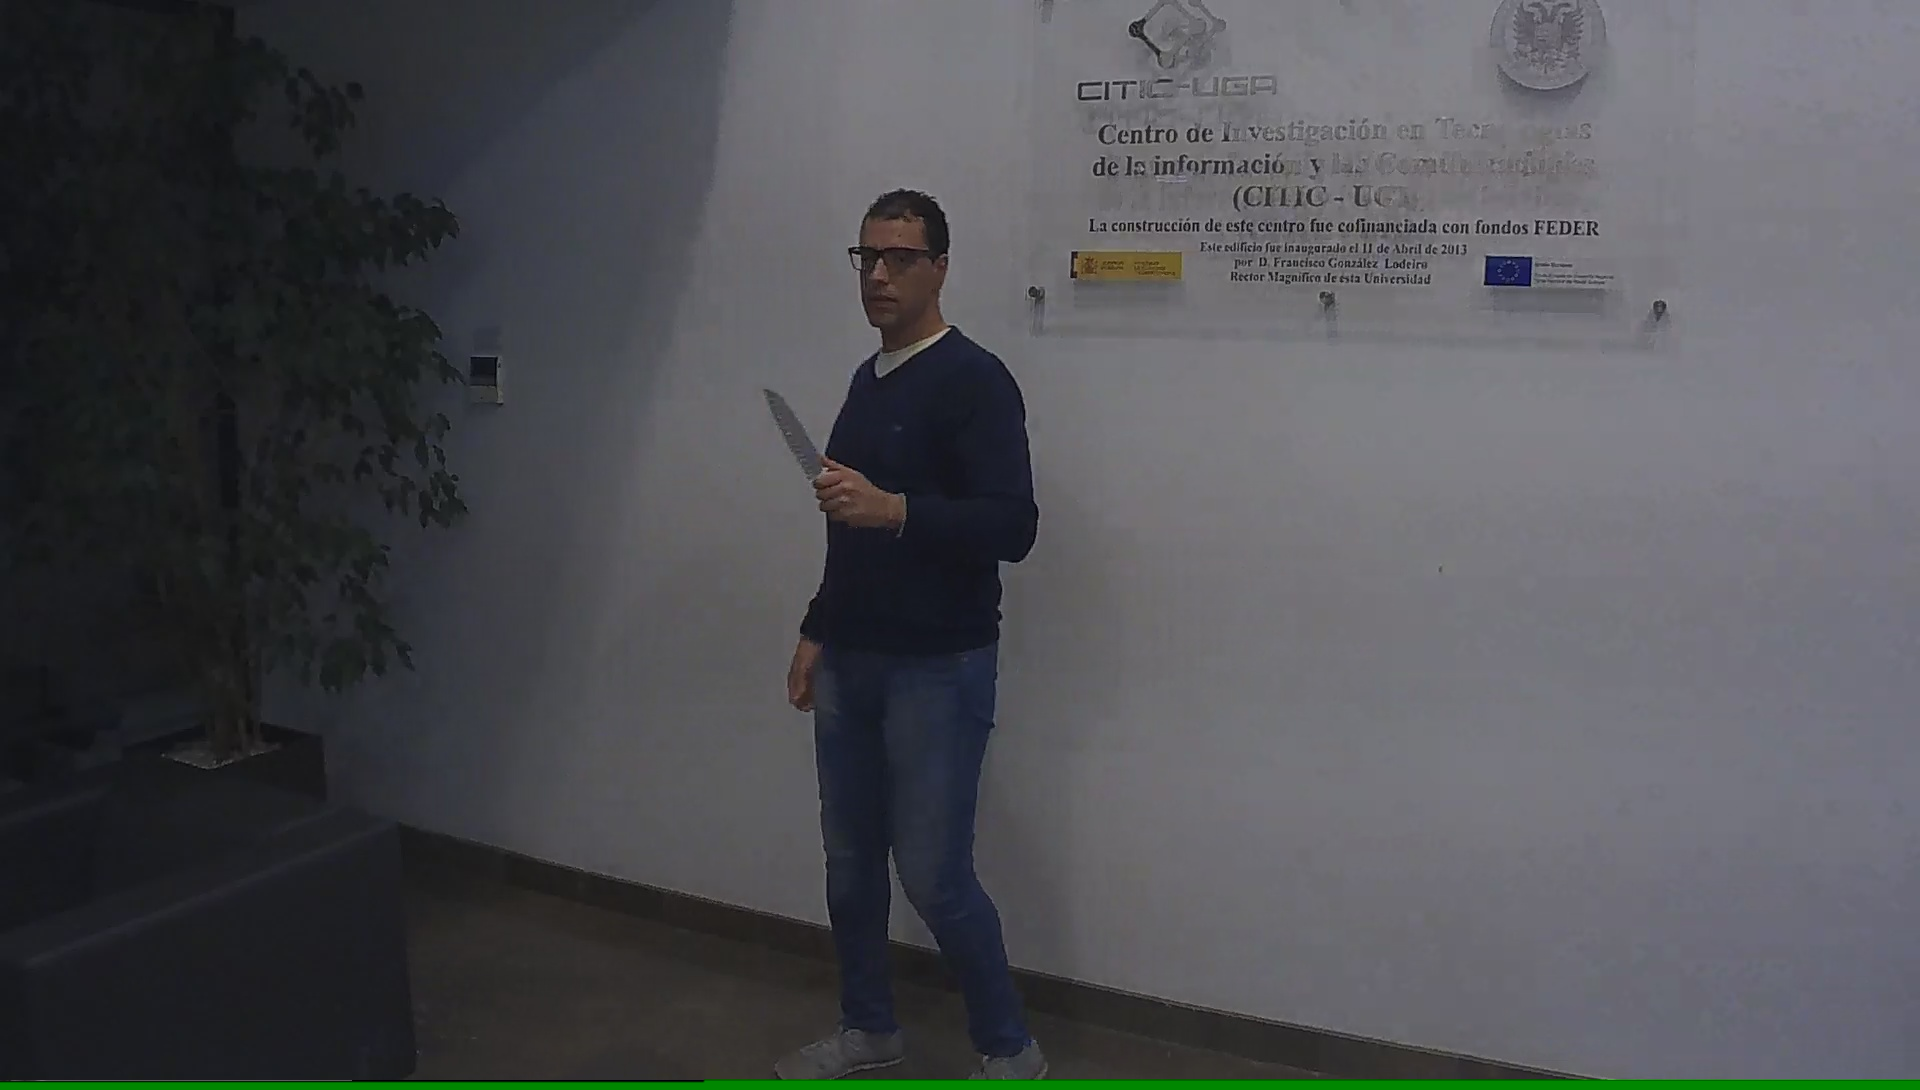knife: (761, 384, 855, 521)
